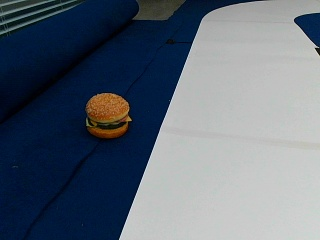burger: (84, 91, 130, 137)
